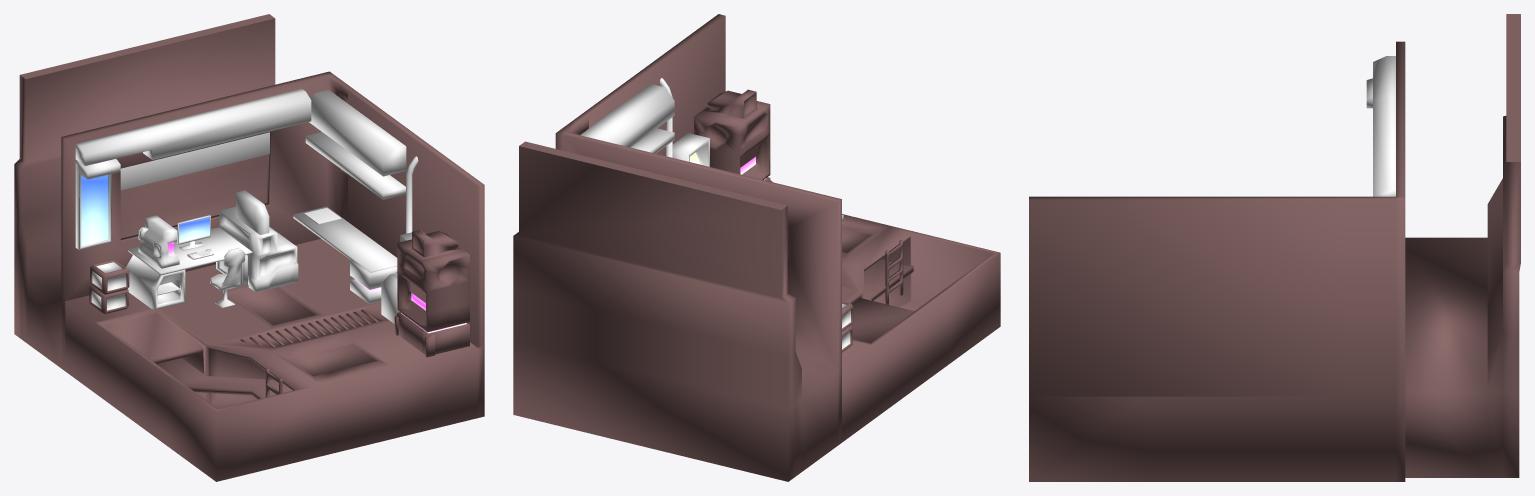
File: Room6.glb
The picture shows the model from 3 angles, left to right: view 1: azimuth 30°, elevation 25°; view 2: azimuth 150°, elevation 25°; view 3: azimuth 270°, elevation 25°; orthographic projection. The views are drawn at different scales.
Visible parts, largest first — view 1: Object_3, Object_4, Object_6, Object_2, Object_7; view 2: Object_3, Object_4; view 3: Object_3, Object_4.
Part boxes in pixels (bbox=[...]): Object_3: bbox=[14, 14, 484, 481]; Object_4: bbox=[75, 88, 425, 323]; Object_6: bbox=[120, 132, 341, 308]; Object_2: bbox=[81, 175, 108, 245]; Object_7: bbox=[179, 217, 209, 242]; Object_3: bbox=[513, 14, 1000, 481]; Object_4: bbox=[580, 78, 850, 349]; Object_3: bbox=[1029, 14, 1520, 481]; Object_4: bbox=[1366, 56, 1395, 196].
Bounding box in the file's own units: 400 × 367 × 523.
